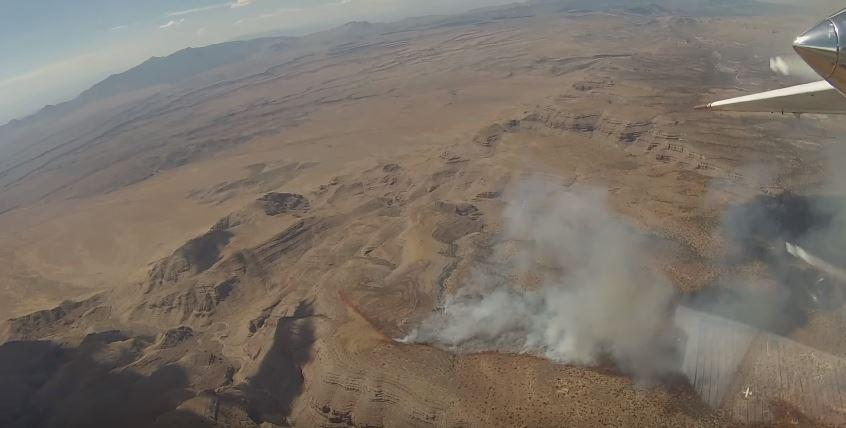fire: (510, 204, 642, 358)
